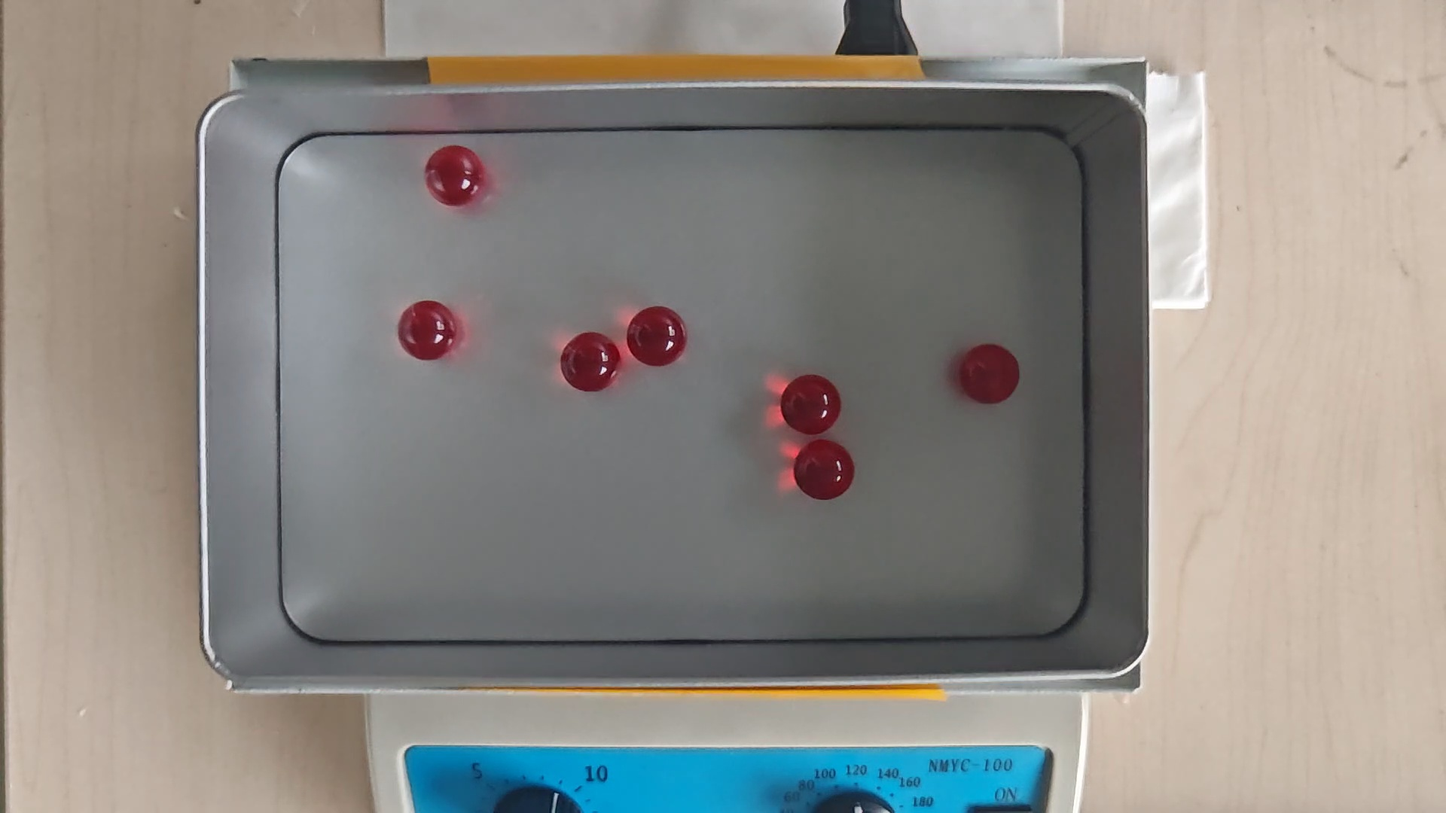ball: (795, 440, 856, 501), (562, 330, 621, 392), (962, 343, 1020, 406), (628, 306, 687, 367), (782, 375, 840, 436), (427, 146, 484, 206), (399, 300, 456, 359)
container: (273, 125, 1087, 642)
